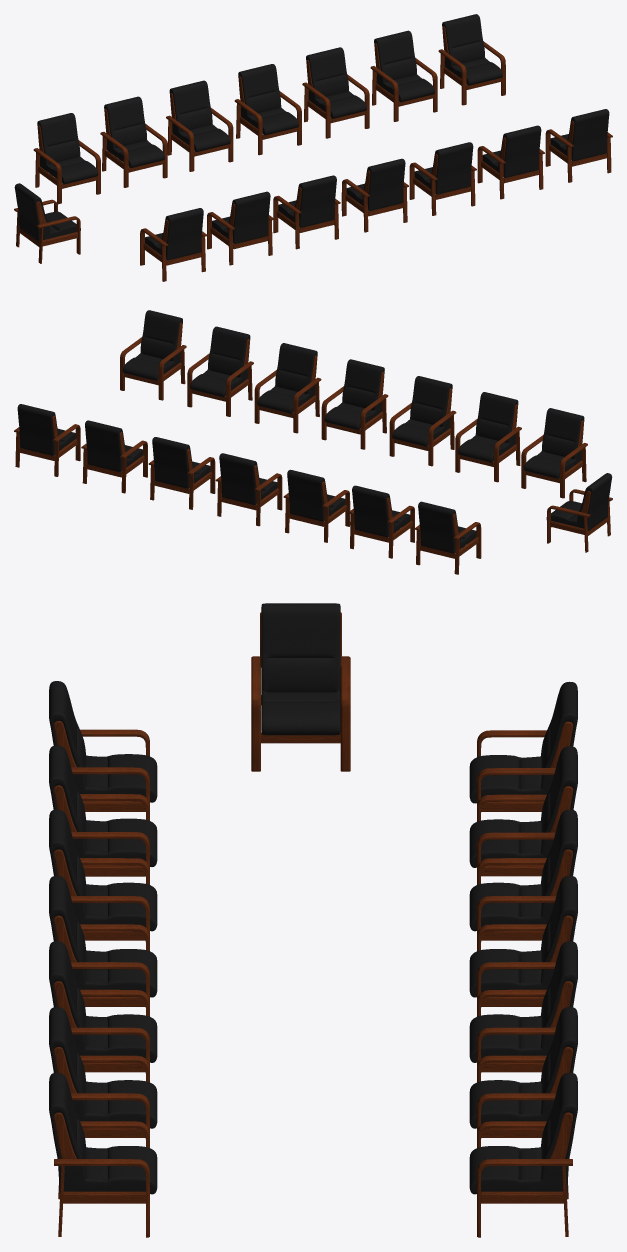
Rendered from 座位_fixed.glb.
The picture shows the model from 3 angles, top to bottom: view 1: azimuth 30°, elevation 25°; view 2: azimuth 150°, elevation 25°; view 3: azimuth 270°, elevation 25°; orthographic projection. The views are drawn at different scales.
Visible parts, largest first — view 1: Material2.009, Material2.006, Material2.008, Material2.007, Material2.019, Material2.028, Material2.031, Material2.010, Material2.014, Material2.023, Material2.020, Material2.029 (+4 smaller); view 2: Material2.009, Material2.006, Material2.007, Material2.010, Material2.019, Material2.014, Material2.023, Material2.020, Material2.008, Material2.031, Material2.028, Material2.013 (+4 smaller); view 3: Material2.009, Material2.019, Material2.006, Material2.007, Material2.010, Material2.008, Material2.014, Material2.023, Material2.031, Material2.028, Material2.020, Material2.029 (+4 smaller).
Boxes of the visible parts, left/top/right/bottom form: Material2.009: left=169, top=17, right=541, bottom=211; Material2.006: left=167, top=26, right=567, bottom=212; Material2.008: left=189, top=59, right=607, bottom=216; Material2.007: left=166, top=58, right=612, bottom=232; Material2.019: left=14, top=183, right=80, bottom=263; Material2.028: left=104, top=96, right=164, bottom=167; Material2.031: left=37, top=113, right=98, bottom=184; Material2.010: left=346, top=14, right=609, bottom=204; Material2.014: left=278, top=175, right=336, bottom=227; Material2.023: left=145, top=208, right=203, bottom=260; Material2.020: left=212, top=191, right=270, bottom=243; Material2.029: left=100, top=124, right=167, bottom=187; Material2.009: left=17, top=326, right=384, bottom=521; Material2.006: left=14, top=362, right=383, bottom=542; Material2.007: left=81, top=322, right=386, bottom=507; Material2.010: left=18, top=310, right=376, bottom=429; Material2.019: left=546, top=473, right=612, bottom=552; Material2.014: left=392, top=376, right=452, bottom=446; Material2.023: left=524, top=408, right=584, bottom=478; Material2.020: left=458, top=392, right=518, bottom=462; Material2.008: left=75, top=339, right=388, bottom=526; Material2.031: left=418, top=501, right=476, bottom=553; Material2.028: left=352, top=485, right=410, bottom=537; Material2.013: left=389, top=388, right=456, bottom=466; Material2.009: left=49, top=809, right=577, bottom=1194; Material2.019: left=251, top=603, right=350, bottom=771; Material2.006: left=63, top=896, right=572, bottom=1236; Material2.007: left=54, top=849, right=573, bottom=1237; Material2.010: left=49, top=951, right=576, bottom=1194; Material2.008: left=53, top=863, right=482, bottom=1237; Material2.014: left=49, top=809, right=157, bottom=931; Material2.023: left=49, top=681, right=157, bottom=802; Material2.031: left=469, top=681, right=577, bottom=803; Material2.028: left=469, top=746, right=577, bottom=867; Material2.020: left=49, top=745, right=157, bottom=866; Material2.029: left=477, top=786, right=573, bottom=867.
Size of what is drawn, in the model's own units: 178 by 20.85 by 78.06.
Materials: 12 (12 with a texture image).
